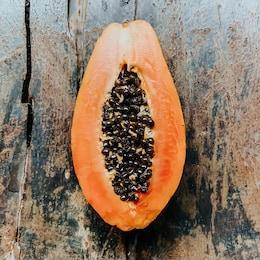papaya: (69, 21, 186, 230)
